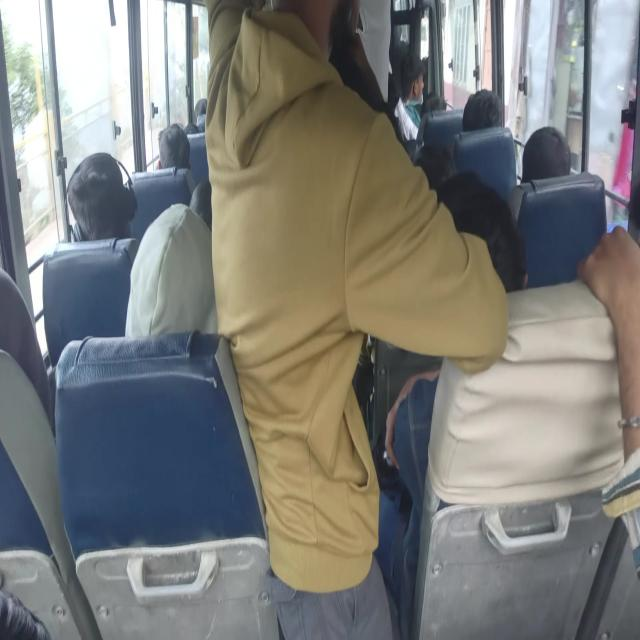person: (202, 0, 514, 638), (576, 223, 640, 519), (125, 178, 218, 338), (66, 151, 138, 242), (520, 125, 572, 183), (393, 51, 426, 142), (462, 88, 503, 131), (157, 122, 190, 170)
